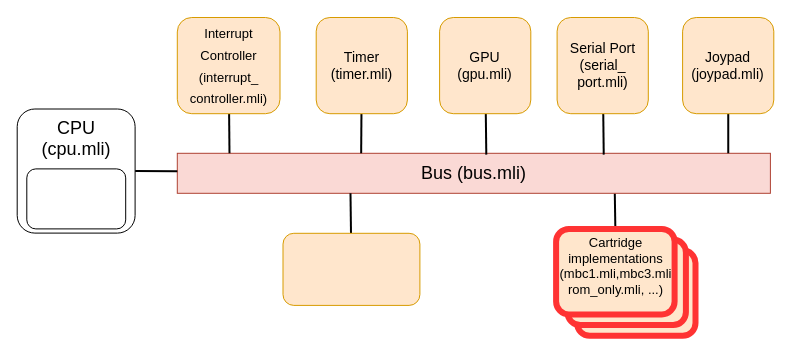
Image size: 792x356. Some labels were removed from this diagram. Each missing label, with the box of its shape:
RAM (ram.mli): (282, 232, 420, 305)
Registers (registers.mli): (26, 168, 126, 229)
